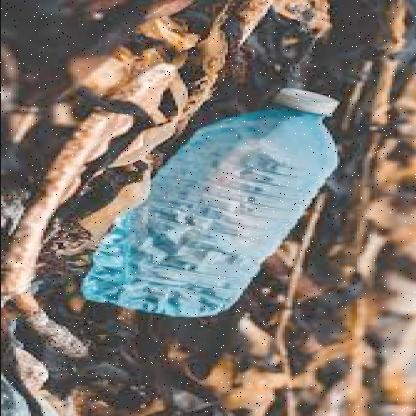Plastic Bottle: (80, 88, 337, 317)
